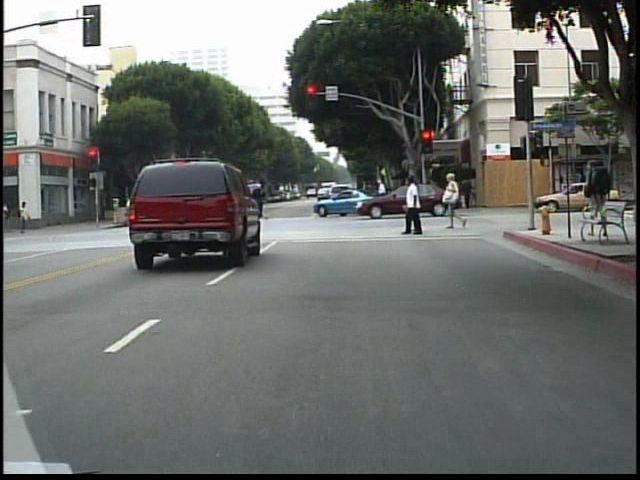person: (579, 152, 611, 206), (440, 173, 468, 231), (405, 176, 431, 236), (402, 176, 418, 233), (253, 180, 271, 228), (373, 176, 394, 216), (143, 190, 160, 232), (355, 179, 373, 216), (401, 178, 418, 216), (18, 201, 34, 236), (2, 200, 15, 235), (124, 193, 134, 230)
